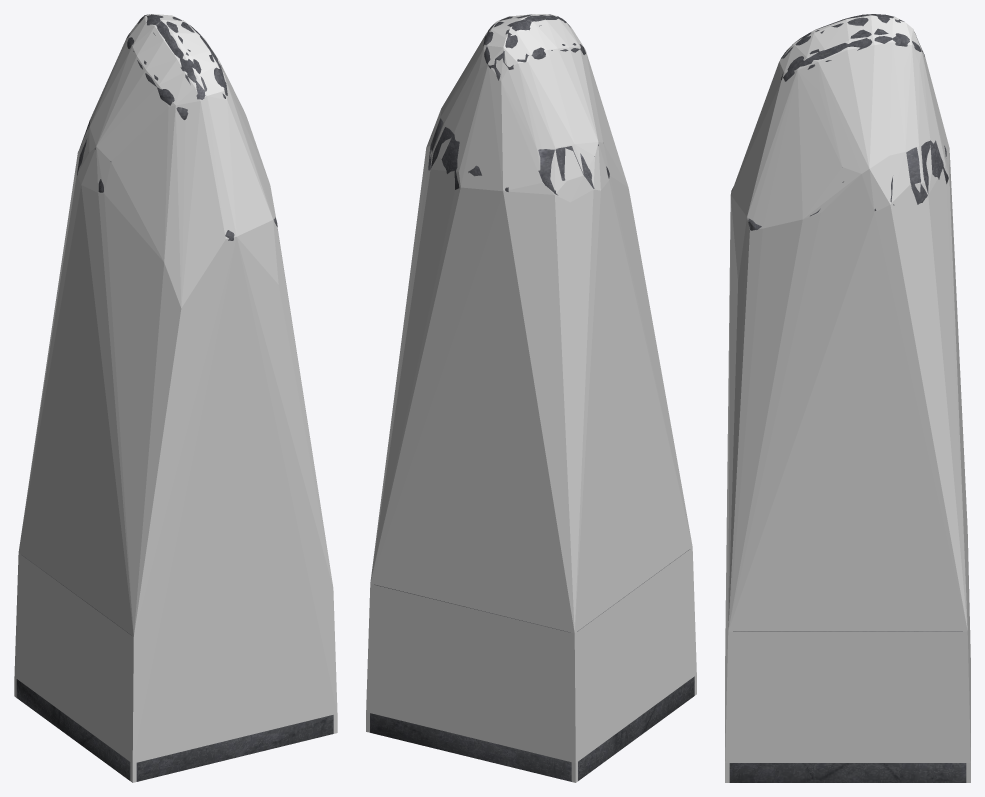
Rendered from statue_hooded.webp.glb.
The picture shows the model from 3 angles, left to right: view 1: azimuth 30°, elevation 25°; view 2: azimuth 150°, elevation 25°; view 3: azimuth 270°, elevation 25°; orthographic projection. The views are drawn at different scales.
Visible parts, largest first — view 1: COL, FRAC_8, statue_hooded_lod0, FRAC_6, FRAC_7; view 2: COL, statue_hooded_lod0, FRAC_8, FRAC_3, FRAC_6, FRAC_7; view 3: COL, FRAC_7, statue_hooded_lod0, FRAC_8, FRAC_3, FRAC_6.
Part boxes in pixels (box(x1,y1,x2,y2)): COL: box(14, 14, 337, 782); FRAC_8: box(52, 705, 333, 781); statue_hooded_lod0: box(22, 14, 276, 635); FRAC_6: box(127, 14, 225, 119); FRAC_7: box(16, 679, 53, 724); COL: box(366, 14, 696, 782); statue_hooded_lod0: box(370, 14, 689, 781); FRAC_8: box(614, 676, 694, 753); FRAC_3: box(428, 118, 609, 195); FRAC_6: box(483, 14, 585, 80); FRAC_7: box(578, 735, 615, 780); COL: box(725, 14, 970, 782); FRAC_7: box(816, 763, 965, 782); statue_hooded_lod0: box(729, 14, 966, 782); FRAC_8: box(730, 763, 818, 782); FRAC_3: box(731, 140, 947, 230); FRAC_6: box(781, 14, 924, 79).
Size of the model in its own units: 1.56 by 5 by 1.56.
1 material, 1 textured.
